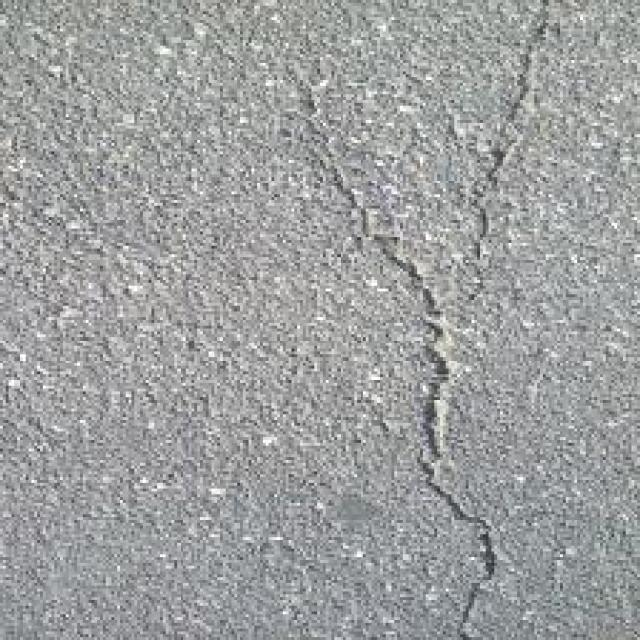crack: (274, 88, 522, 640), (454, 0, 562, 328)
